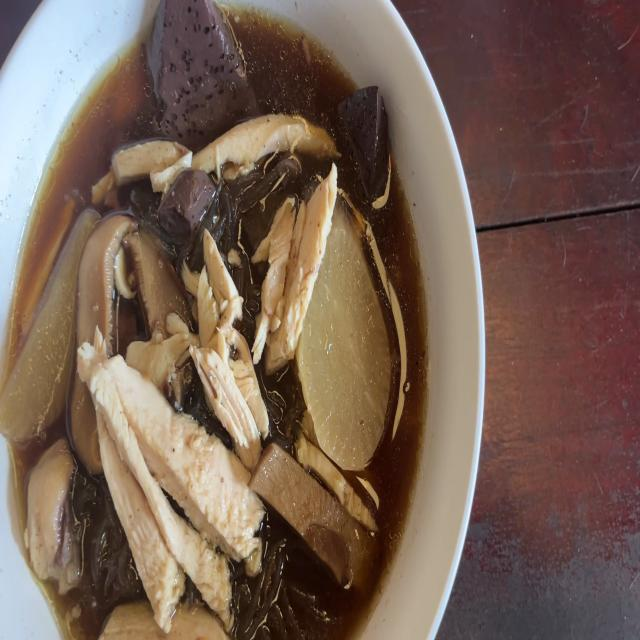noodle: (140, 0, 258, 125), (344, 83, 388, 189), (158, 173, 210, 230)
